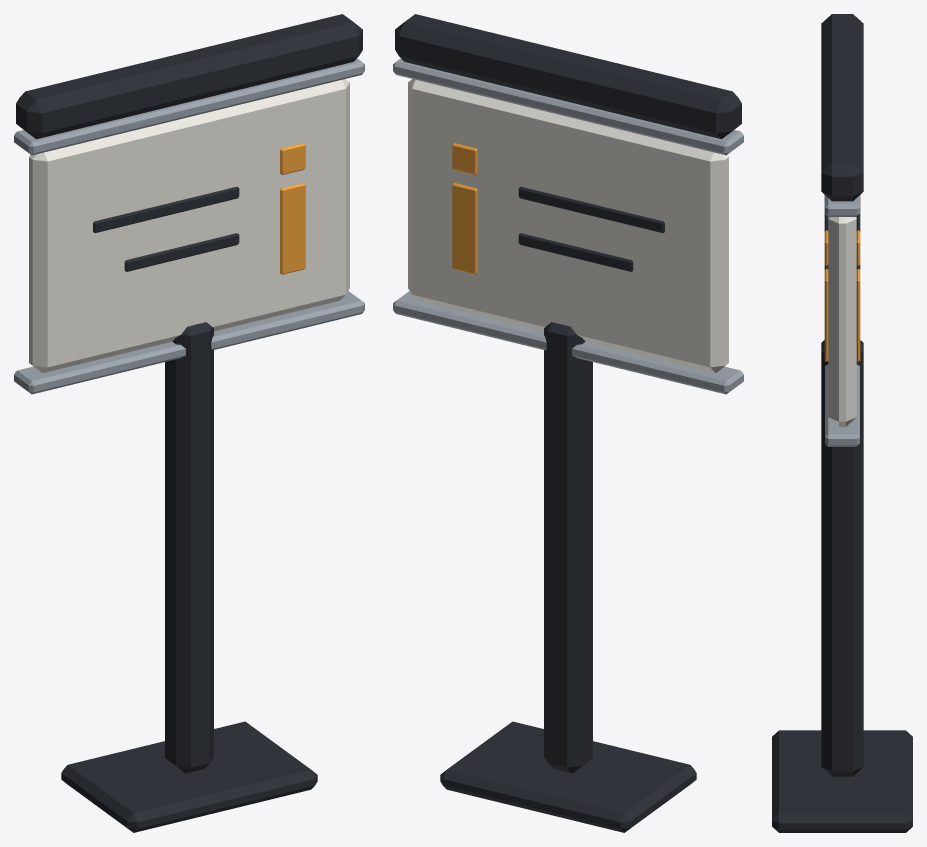
Rendered from info_signpost.obj.
3 renders of one model, left to right at view 1: azimuth 30°, elevation 25°; view 2: azimuth 150°, elevation 25°; view 3: azimuth 270°, elevation 25°, orthographic. The views are drawn at different scales.
Parts seen in each view (by area): view 1: info_signpost; view 2: info_signpost; view 3: info_signpost.
Boxes of the visible parts, bbox=[...] form: info_signpost: bbox=[14, 14, 364, 832]; info_signpost: bbox=[393, 14, 743, 832]; info_signpost: bbox=[772, 14, 912, 832].
Bounding box in the file's own units: 1.06 × 2.2 × 0.4.
